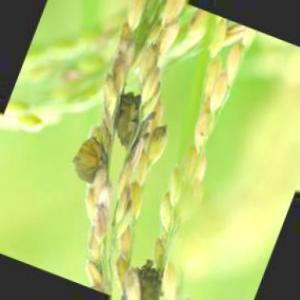Leaf_Scald: (115, 90, 138, 142), (76, 135, 97, 186)
